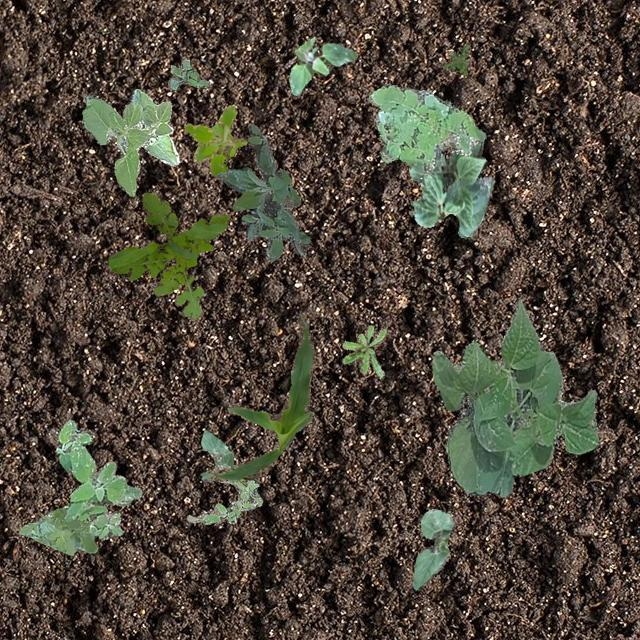crop: (432, 298, 598, 496), (200, 310, 314, 480), (82, 88, 178, 194), (408, 140, 492, 237), (412, 508, 452, 588), (200, 429, 234, 484)
weed: (108, 192, 230, 318), (216, 124, 310, 262), (368, 84, 484, 175), (54, 418, 140, 538), (182, 104, 245, 176), (18, 502, 96, 554), (288, 36, 356, 94), (186, 478, 262, 524), (342, 324, 386, 376), (167, 58, 210, 88), (440, 44, 470, 74)
